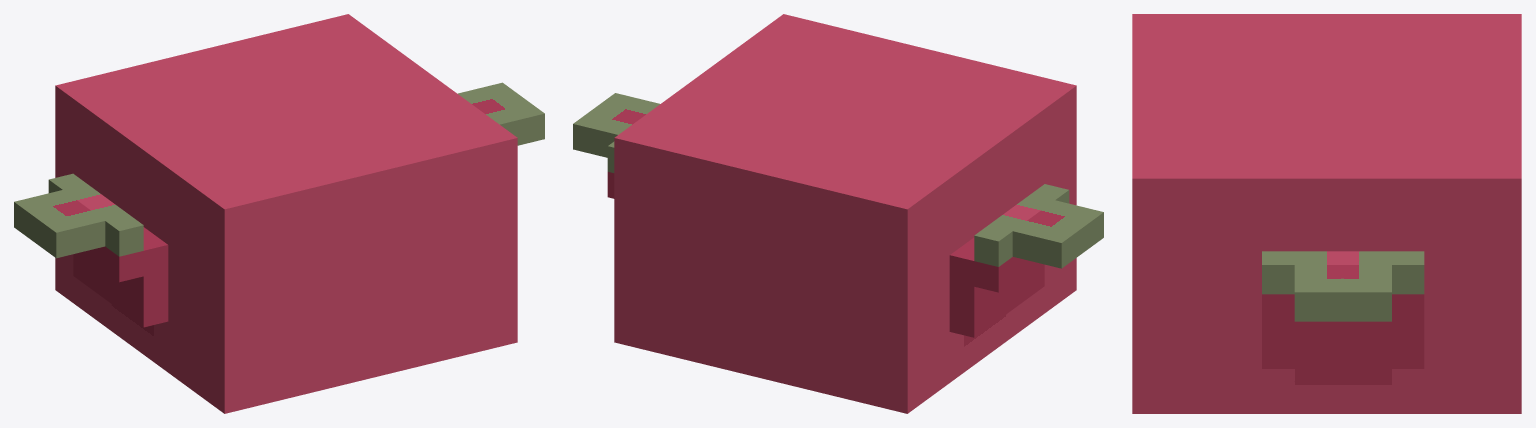
Rendered from Head_6.fbx.
3 views of the same model, side by side, from view 1: azimuth 30°, elevation 25°; view 2: azimuth 150°, elevation 25°; view 3: azimuth 270°, elevation 25° (orthographic). The views are drawn at different scales.
Parts seen in each view (by area): view 1: Head_6; view 2: Head_6; view 3: Head_6.
Part boxes in pixels (x1=…): Head_6: x1=14, y1=14, x2=544, y2=413; Head_6: x1=573, y1=14, x2=1103, y2=413; Head_6: x1=1132, y1=14, x2=1521, y2=413.
Bounding box in the file's own units: 20 × 8 × 12.
Materials: 1 (1 with a texture image).
